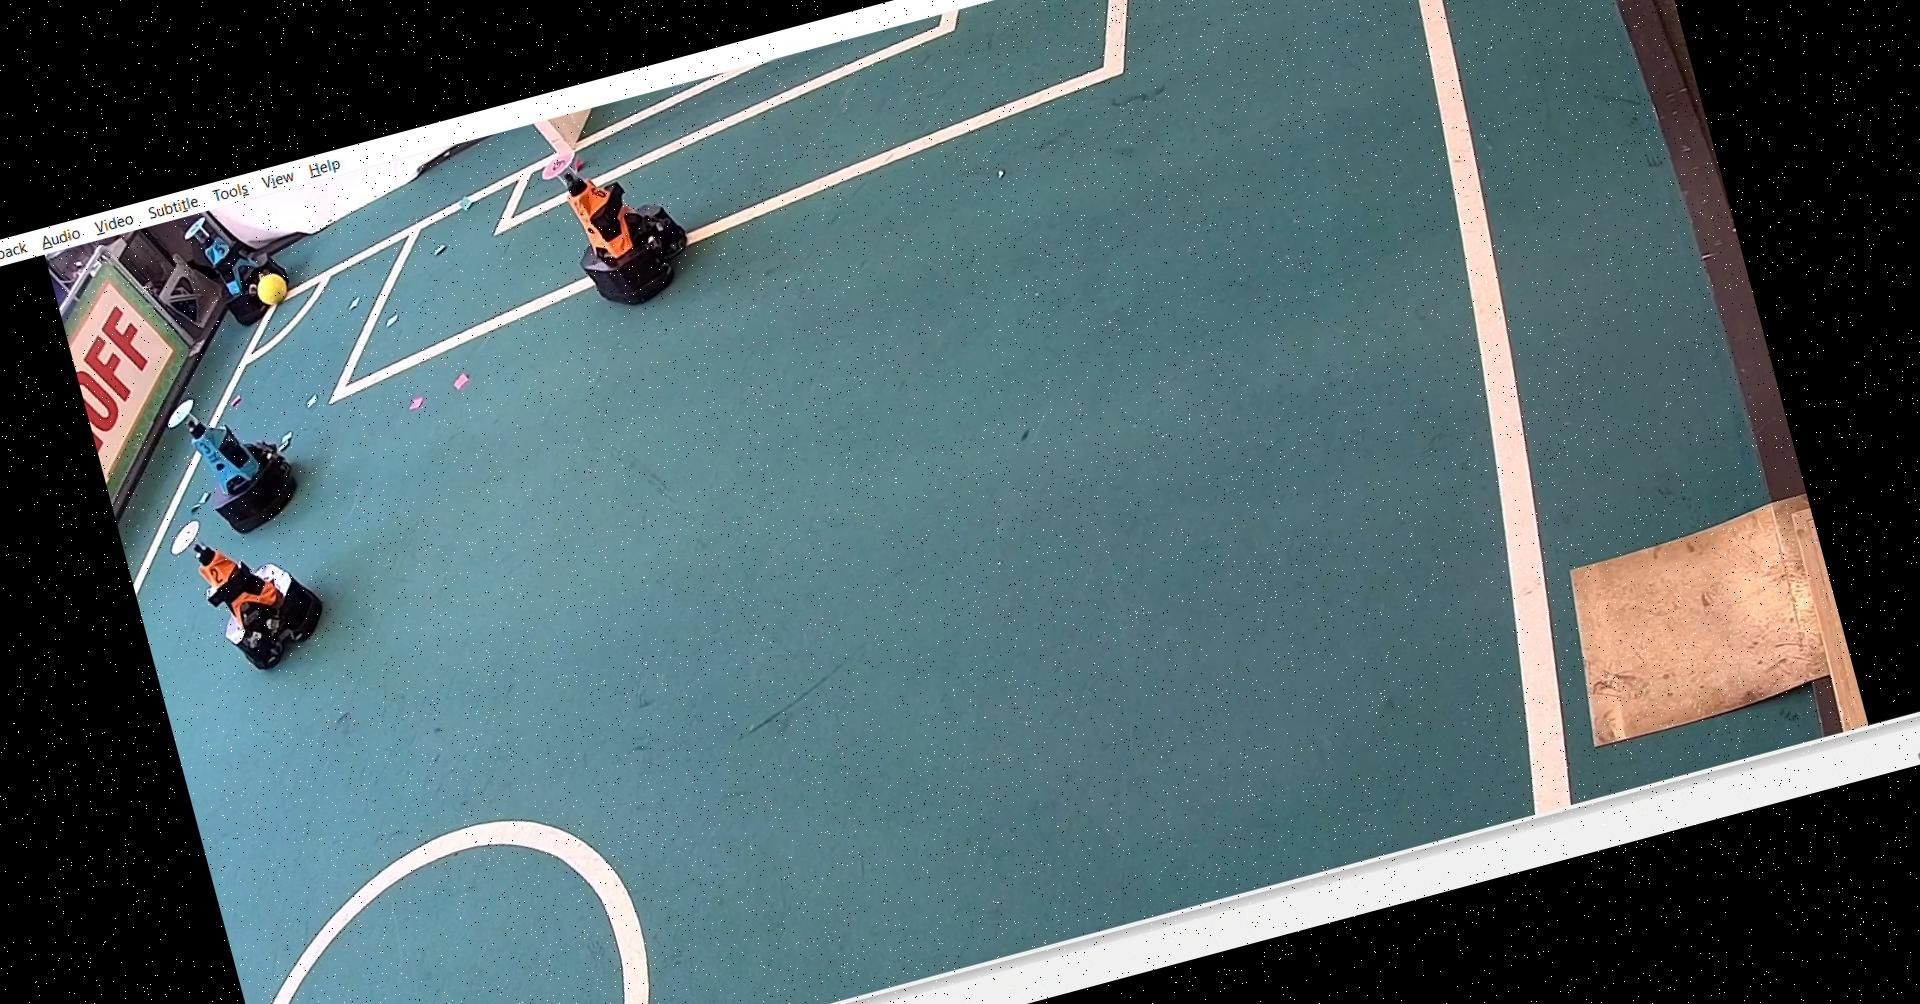Ball: (249, 267, 300, 310)
Team_Blue: (159, 369, 319, 542), (182, 198, 307, 335)
Team_Red: (154, 481, 342, 689), (536, 121, 701, 327)
